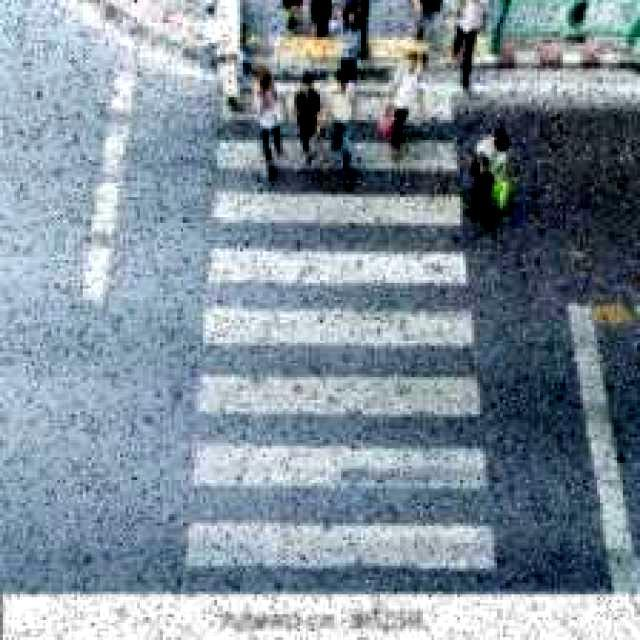crosswalk: (158, 59, 555, 605)
